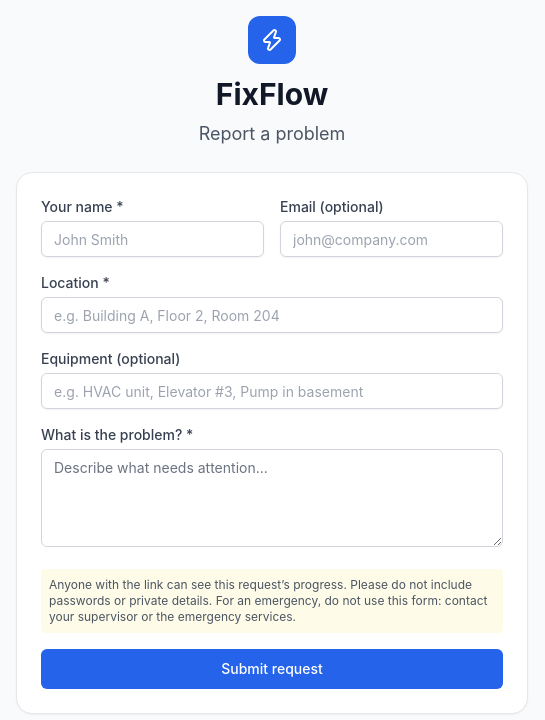
WorkRequestPortalPage › sends the request and shows the link to follow it
Type "Kamal Perera" into the field labelled "Your name *" at (152, 239), box [41, 221, 264, 257]
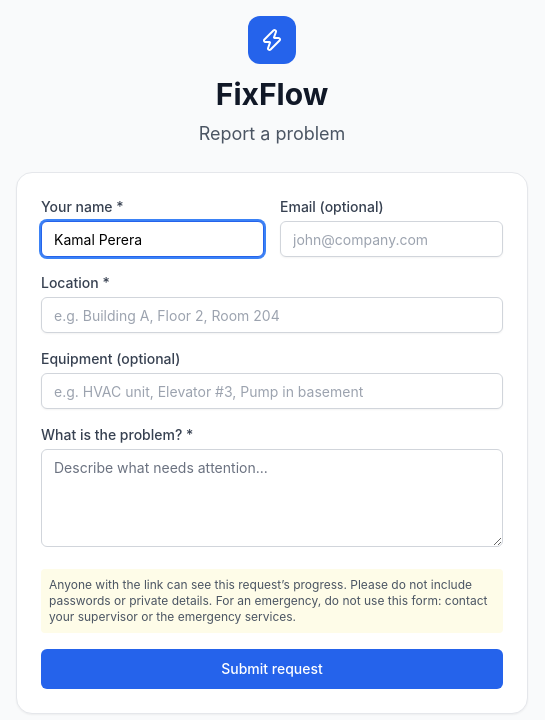
Type "Block B, floor 2" into the field labelled "Location *" at (272, 315), box [41, 297, 503, 333]
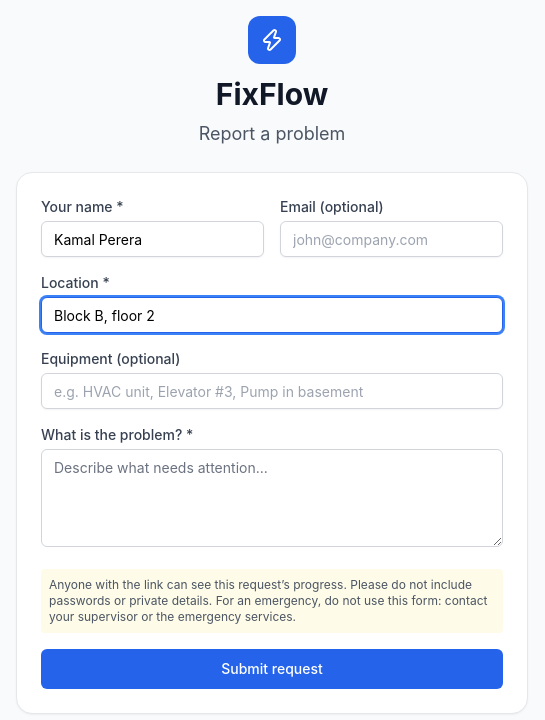
Type "The door will not close properly" into the text box labelled "What is the problem? *" at (272, 498), box [41, 449, 503, 547]
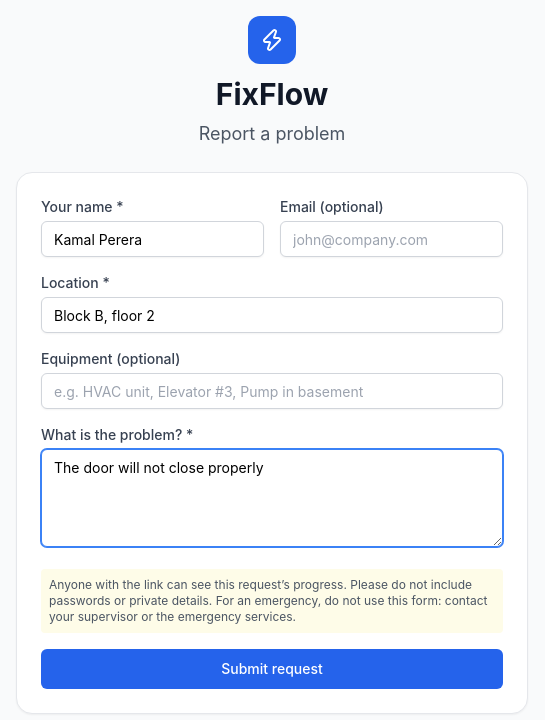
Click the button "Submit request" at (272, 669), box [41, 649, 503, 689]
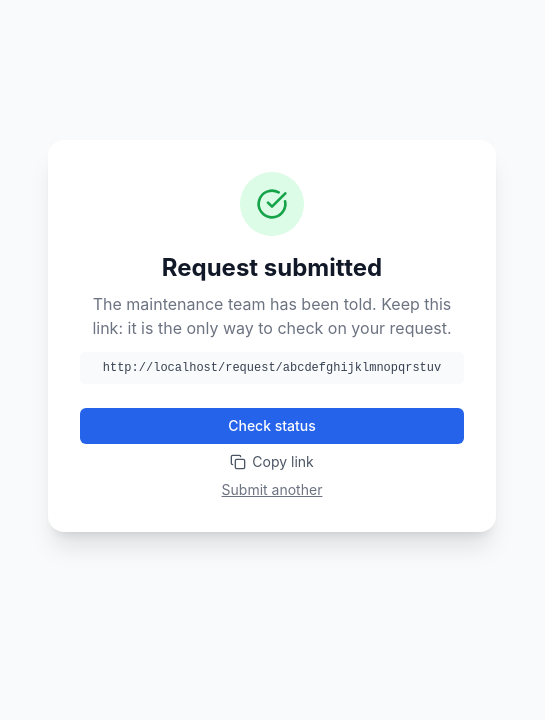
Now the heading "Request submitted" is shown, box [162, 253, 382, 282]
